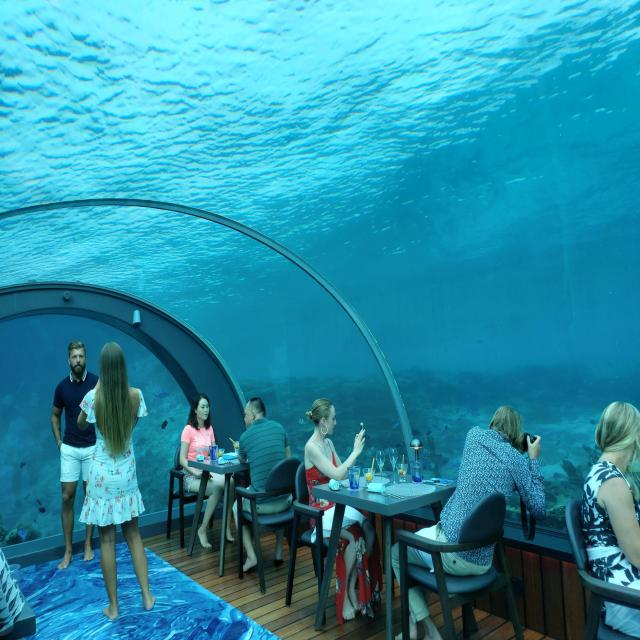person: (404, 406, 551, 640), (85, 342, 163, 614), (574, 394, 640, 640), (304, 397, 375, 617), (49, 334, 100, 581), (240, 389, 296, 579), (182, 389, 229, 554)
